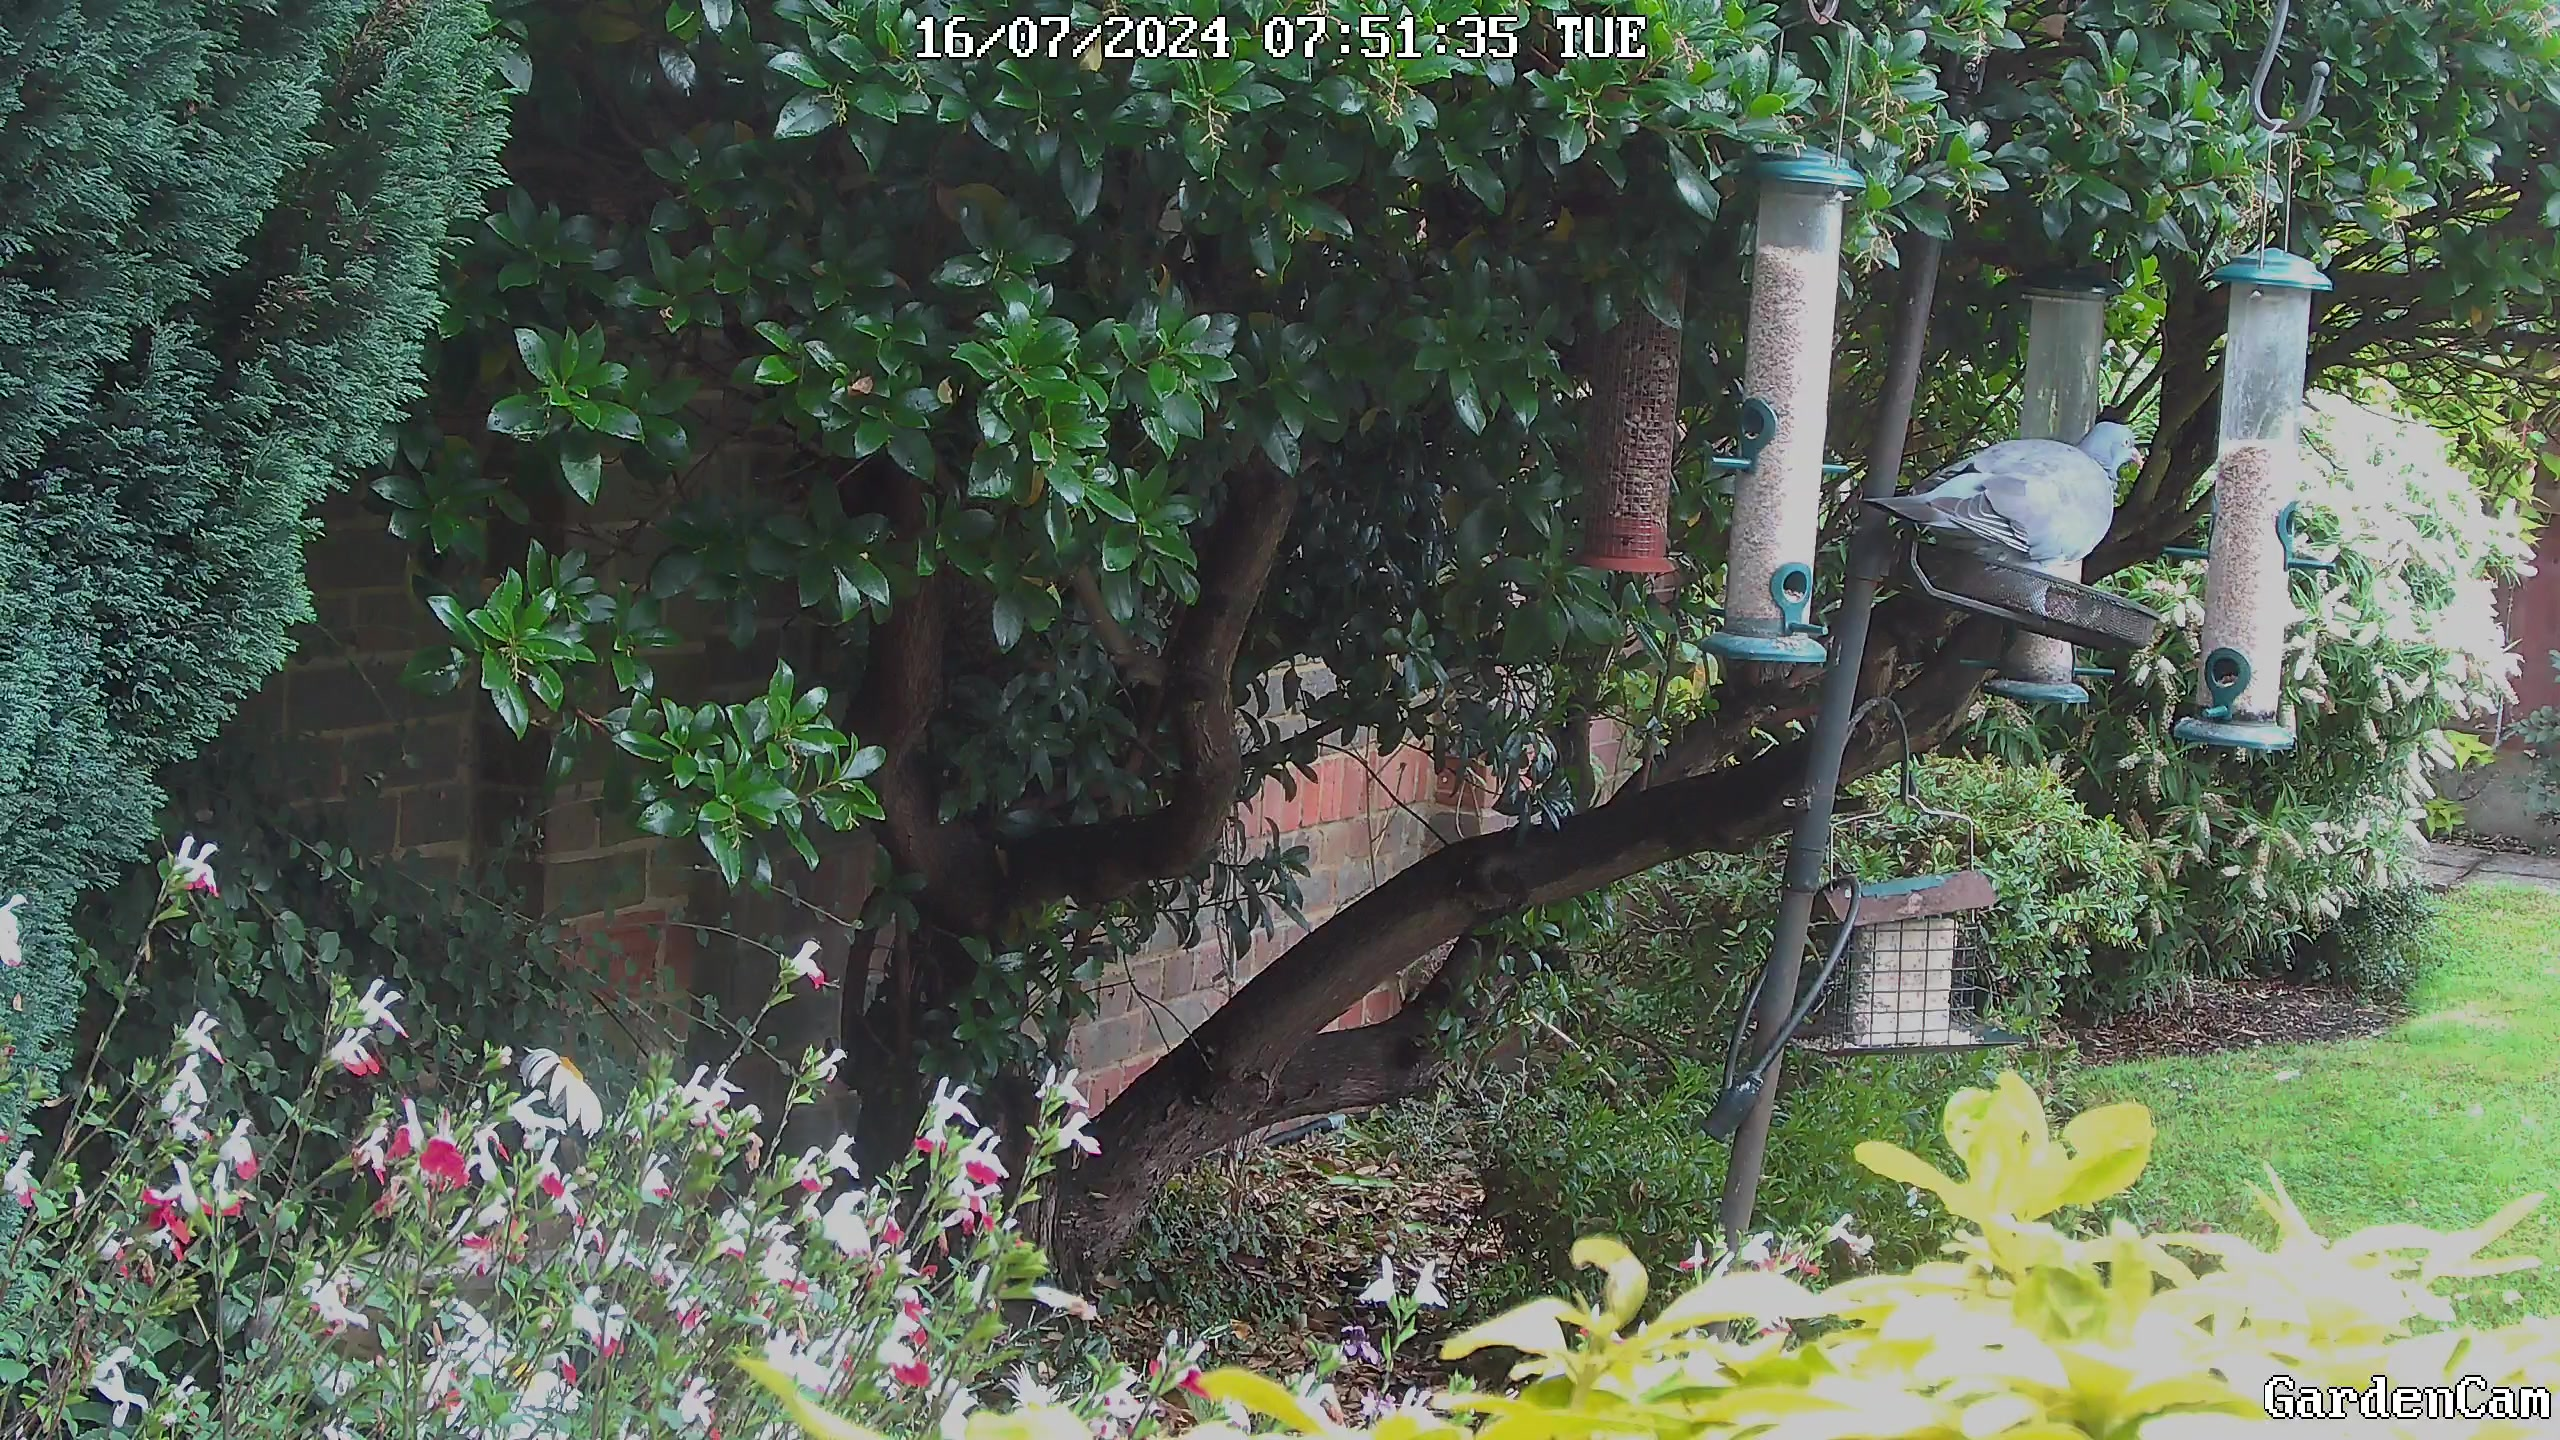Wood_Pigeon: (1853, 376, 2163, 621)
